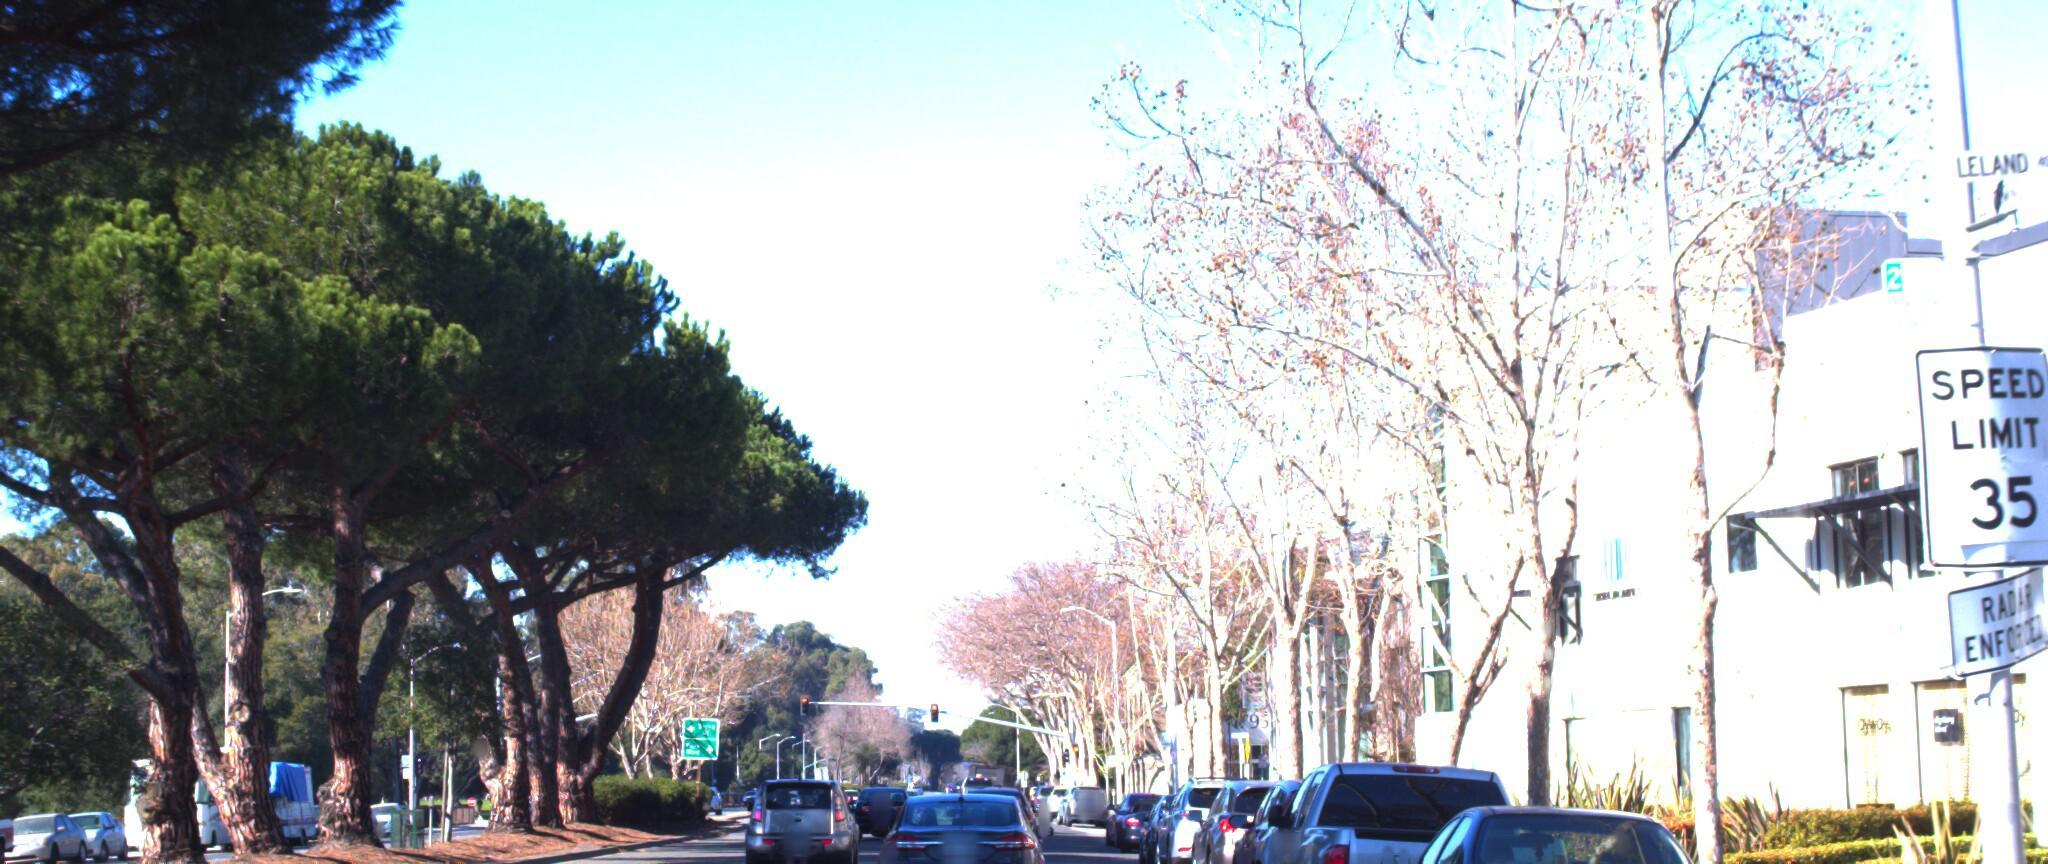car: (1247, 747, 1596, 864), (1654, 780, 2048, 864), (1361, 791, 1775, 864), (1221, 770, 1452, 864), (865, 777, 1044, 864), (1151, 775, 1294, 864), (739, 767, 859, 864), (0, 787, 24, 864)
